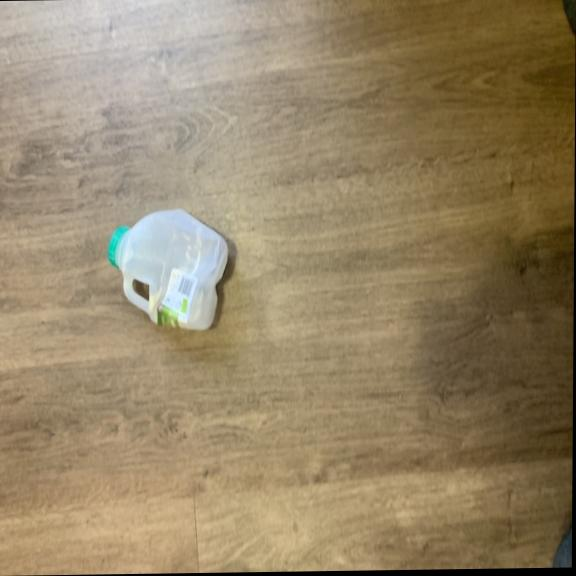Plastik: (106, 203, 235, 333)
